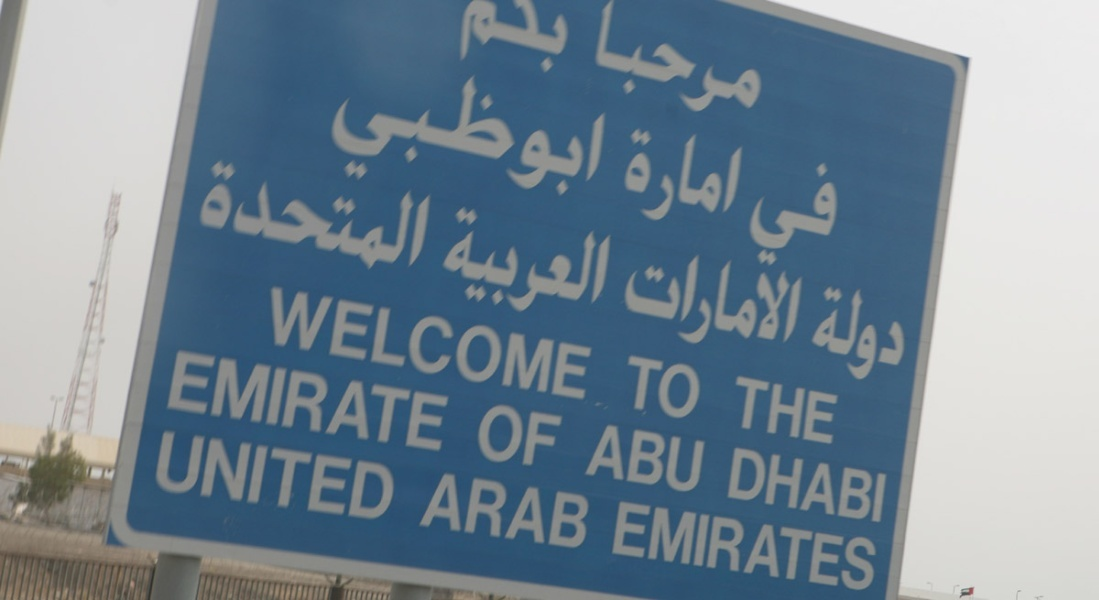text: (369, 49, 384, 227), (385, 49, 400, 227), (401, 49, 416, 227), (417, 49, 432, 227), (433, 49, 448, 227), (449, 49, 464, 227), (465, 49, 480, 227), (481, 49, 496, 227), (497, 49, 512, 227), (513, 49, 528, 227), (529, 49, 544, 227), (545, 49, 560, 227), (561, 49, 576, 227), (577, 49, 592, 227), (593, 49, 608, 227), (357, 49, 368, 227), (769, 152, 784, 281), (785, 152, 800, 281), (801, 152, 816, 281), (817, 152, 832, 281), (609, 1, 624, 127), (625, 1, 640, 127), (641, 1, 656, 127), (657, 1, 672, 127), (673, 1, 688, 127), (689, 1, 704, 127), (705, 1, 720, 127), (721, 1, 736, 127), (737, 1, 752, 127), (753, 1, 768, 127), (641, 240, 656, 366), (657, 240, 672, 366), (673, 240, 688, 366), (689, 240, 704, 366), (705, 240, 720, 366), (721, 240, 736, 366), (737, 240, 752, 366), (753, 240, 768, 366), (769, 240, 784, 366), (785, 240, 800, 366), (465, 207, 480, 330), (481, 207, 496, 330), (497, 207, 512, 330), (513, 207, 528, 330), (529, 207, 544, 330), (545, 207, 560, 330), (561, 207, 576, 330), (577, 207, 592, 330), (593, 207, 608, 330), (225, 159, 240, 279), (241, 159, 256, 279), (257, 159, 272, 279), (273, 159, 288, 279), (289, 159, 304, 279), (305, 159, 320, 279), (321, 159, 336, 279), (337, 159, 352, 279), (353, 159, 368, 279), (369, 159, 384, 279), (385, 159, 400, 279), (401, 159, 416, 279), (417, 159, 432, 279), (897, 278, 913, 390), (273, 284, 288, 402), (289, 284, 304, 402), (305, 284, 320, 402), (321, 284, 336, 402), (337, 284, 352, 402), (353, 284, 368, 402), (369, 284, 384, 402), (385, 284, 400, 402), (401, 284, 416, 402), (417, 284, 432, 402), (433, 284, 448, 402), (449, 284, 464, 402), (465, 284, 480, 402), (481, 284, 496, 402), (497, 284, 512, 402), (513, 284, 528, 402), (529, 284, 544, 402), (545, 284, 560, 402), (561, 284, 576, 402), (577, 284, 592, 402), (641, 123, 656, 236), (657, 123, 672, 236), (673, 123, 688, 236), (689, 123, 704, 236), (705, 123, 720, 236), (721, 123, 736, 236), (833, 278, 848, 390), (849, 278, 864, 390), (865, 278, 880, 390), (881, 278, 896, 390), (177, 349, 192, 453), (193, 349, 208, 453), (209, 349, 224, 453), (225, 349, 240, 453), (241, 349, 256, 453), (257, 349, 272, 453), (273, 349, 288, 453), (289, 349, 304, 453), (305, 349, 320, 453), (321, 349, 336, 453), (337, 349, 352, 453), (353, 349, 368, 453), (369, 349, 384, 453), (385, 349, 400, 453), (401, 349, 416, 453), (417, 349, 432, 453), (433, 349, 448, 453), (865, 499, 881, 595), (625, 499, 640, 595), (641, 499, 656, 595), (657, 499, 672, 595), (673, 499, 688, 595), (689, 499, 704, 595), (705, 499, 720, 595), (721, 499, 736, 595), (737, 499, 752, 595), (753, 499, 768, 595), (769, 499, 784, 595), (785, 499, 800, 595), (801, 499, 816, 595), (817, 499, 832, 595), (833, 499, 848, 595), (849, 499, 864, 595), (833, 152, 844, 281), (177, 431, 192, 523), (193, 431, 208, 523), (209, 431, 224, 523), (225, 431, 240, 523), (241, 431, 256, 523), (257, 431, 272, 523), (273, 431, 288, 523), (289, 431, 304, 523), (305, 431, 320, 523), (321, 431, 336, 523), (337, 431, 352, 523), (353, 431, 368, 523), (369, 431, 384, 523), (385, 431, 400, 523), (213, 159, 224, 279), (162, 431, 176, 523), (465, 1, 480, 81), (481, 1, 496, 81), (497, 1, 512, 81), (513, 1, 528, 81), (529, 1, 544, 81), (545, 1, 560, 81), (449, 473, 464, 550), (465, 473, 480, 550), (481, 473, 496, 550), (497, 473, 512, 550), (513, 473, 528, 550), (529, 473, 544, 550), (545, 473, 560, 550), (561, 473, 576, 550), (577, 473, 592, 550), (737, 448, 752, 524), (753, 448, 768, 524), (769, 448, 784, 524), (785, 448, 800, 524), (801, 448, 816, 524), (817, 448, 832, 524), (833, 448, 848, 524), (849, 448, 864, 524), (865, 448, 880, 524), (737, 374, 752, 448), (753, 374, 768, 448), (769, 374, 784, 448), (785, 374, 800, 448), (801, 374, 816, 448), (817, 374, 832, 448), (641, 352, 656, 424), (657, 352, 672, 424), (673, 352, 688, 424), (689, 352, 704, 424), (497, 400, 512, 470), (513, 400, 528, 470), (529, 400, 544, 470), (545, 400, 560, 470), (609, 425, 624, 494), (625, 425, 640, 494), (641, 425, 656, 494), (657, 425, 672, 494), (673, 425, 688, 494), (689, 425, 704, 494), (561, 1, 573, 81), (484, 400, 496, 470), (629, 352, 640, 424), (737, 123, 744, 236), (881, 448, 891, 524), (458, 207, 464, 330), (609, 207, 615, 330), (593, 284, 599, 402), (634, 123, 640, 236), (617, 499, 624, 595), (801, 240, 806, 366), (827, 278, 832, 390), (449, 349, 454, 453), (833, 374, 840, 448), (458, 1, 464, 81), (605, 1, 608, 127), (433, 159, 436, 279), (444, 473, 448, 550), (769, 1, 771, 127), (638, 240, 640, 366), (270, 284, 272, 402), (561, 400, 564, 470), (174, 349, 176, 453), (734, 448, 736, 524), (401, 431, 402, 523), (593, 473, 594, 550), (705, 352, 706, 424), (705, 425, 706, 494)
